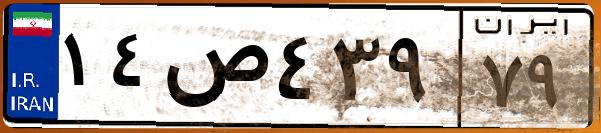1: (57, 26, 110, 100)
3: (330, 28, 385, 110)
4: (270, 28, 330, 110), (110, 28, 158, 98)
7: (475, 38, 525, 113)
9: (385, 28, 445, 110), (525, 38, 570, 115)
ص: (158, 20, 270, 120)
